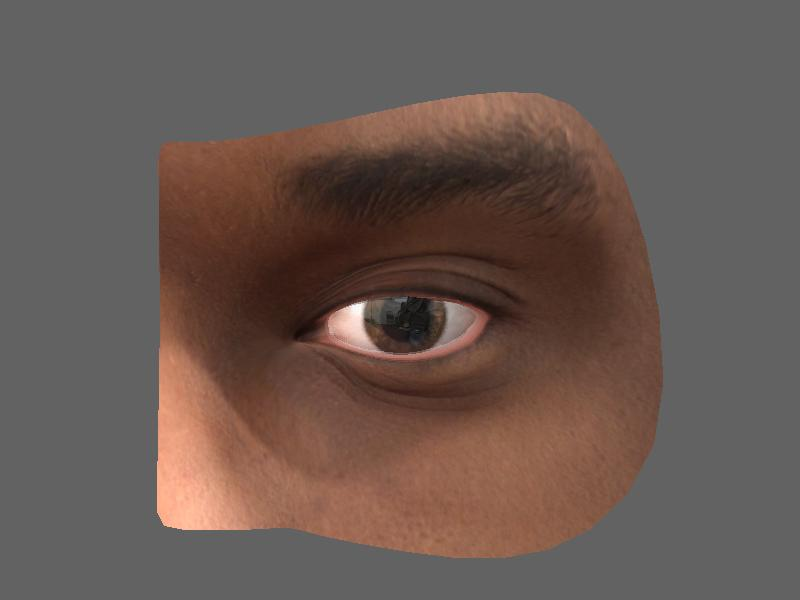iris: (359, 293, 451, 357)
